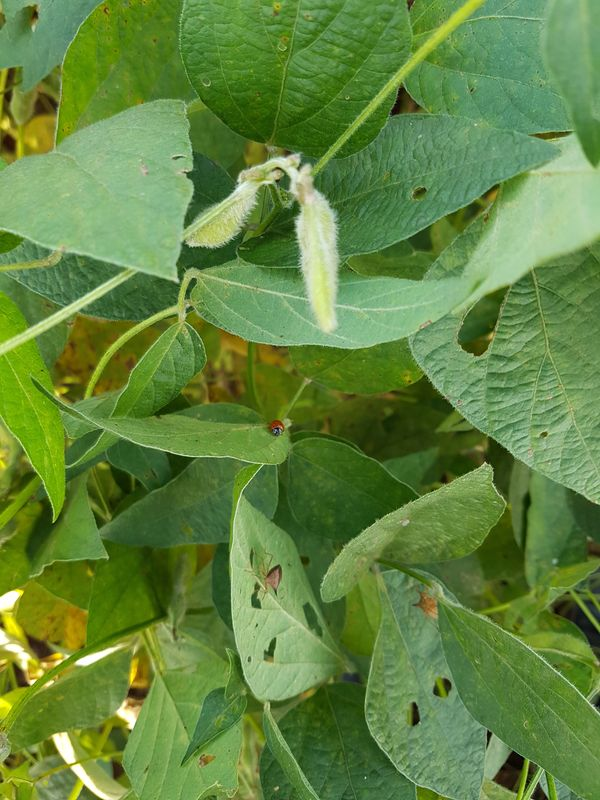Coccinellidae: (260, 415, 293, 444)
Euschistus_heros_adulto: (238, 540, 298, 607), (399, 582, 450, 631)
